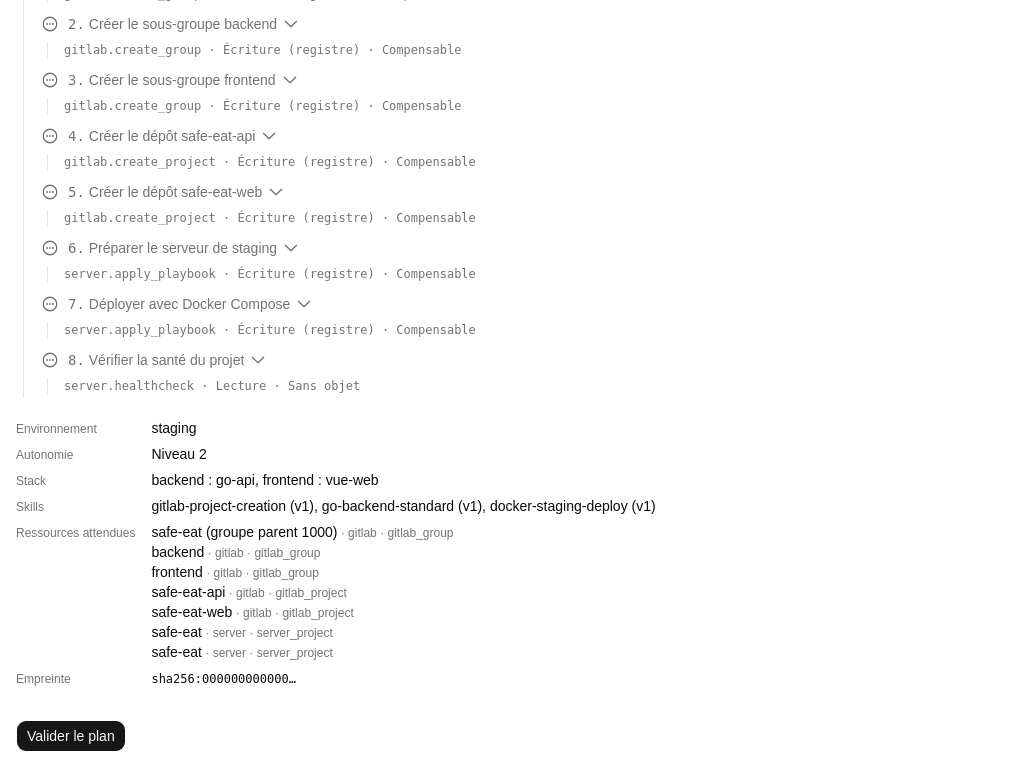
409 : message clair, bouton bloqué jusqu'à la carte plan réémise
The width and height of the screenshot is (1024, 768).
(page scrolled)
Click the button "Valider le plan".
click(71, 736)  # box 16,720 -> 126,752
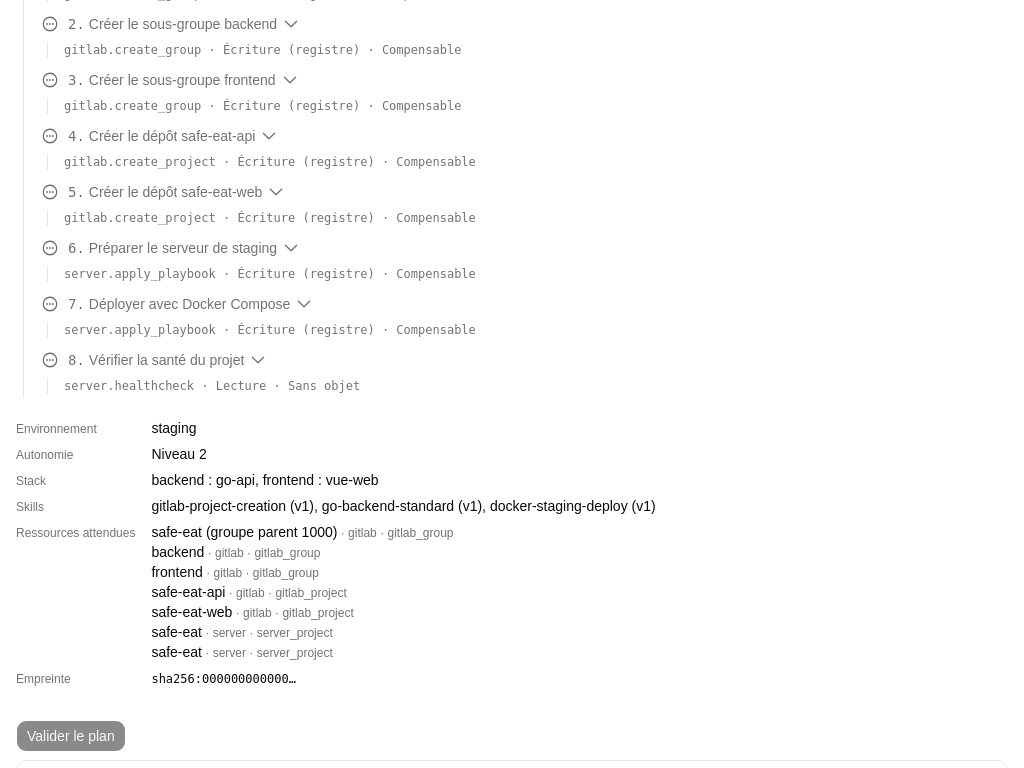
Check: the button "Valider le plan" is disabled, box 16,720 -> 126,752
